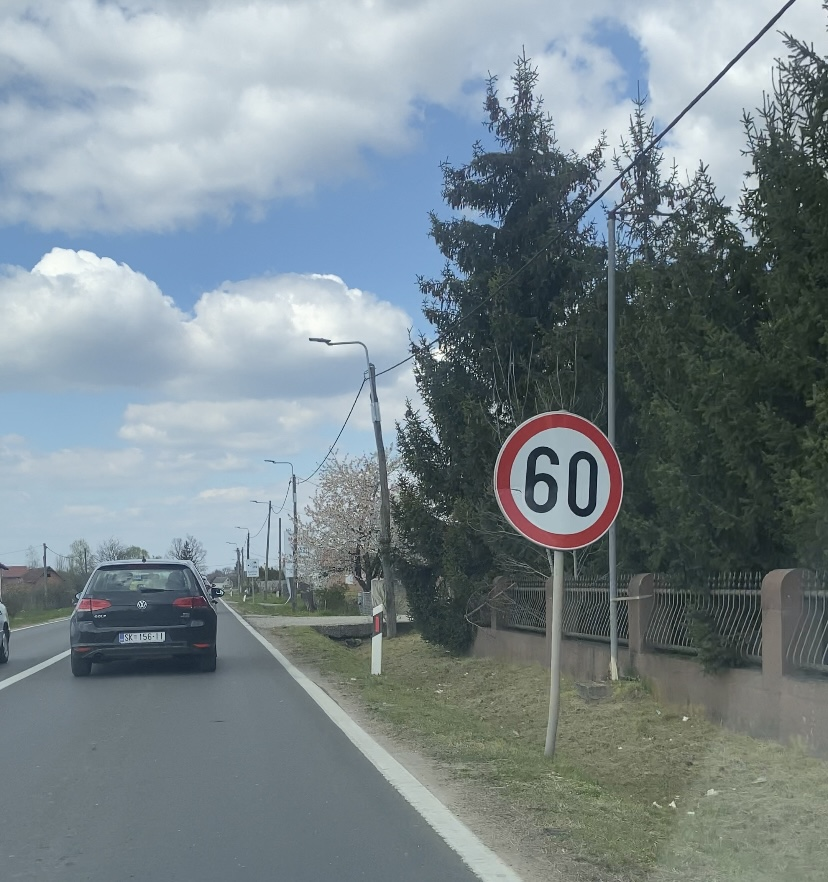Ograničenje brzine 60: (493, 409, 624, 550)
